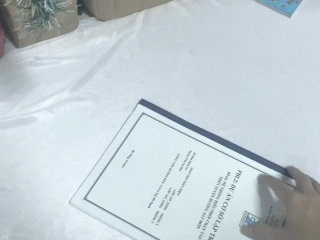box: (1, 1, 79, 49)
